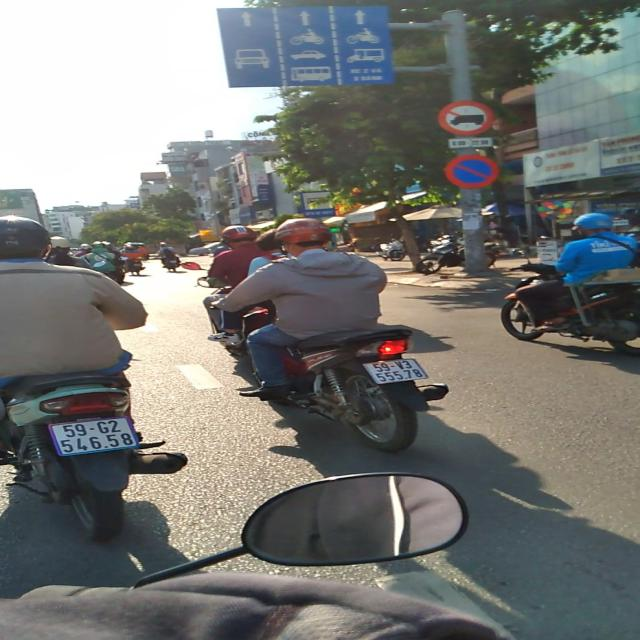Cam con lai: (439, 100, 494, 137)
Cam do: (444, 153, 499, 189)
